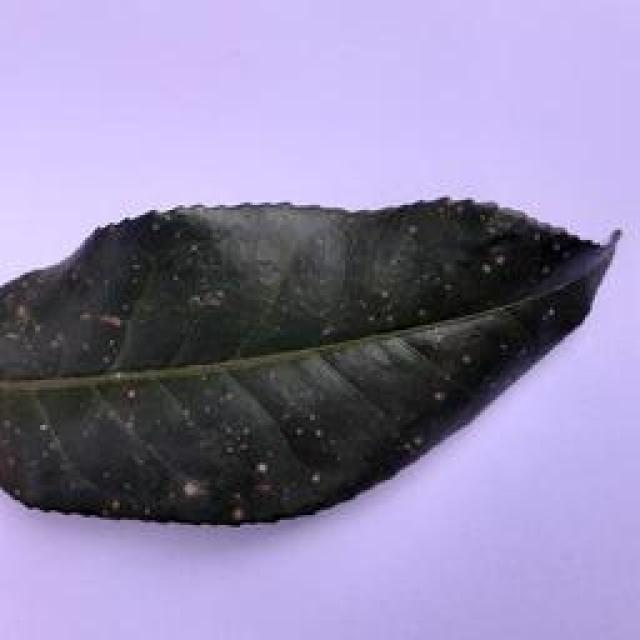Algal Leaf Spot: (0, 181, 640, 538)
